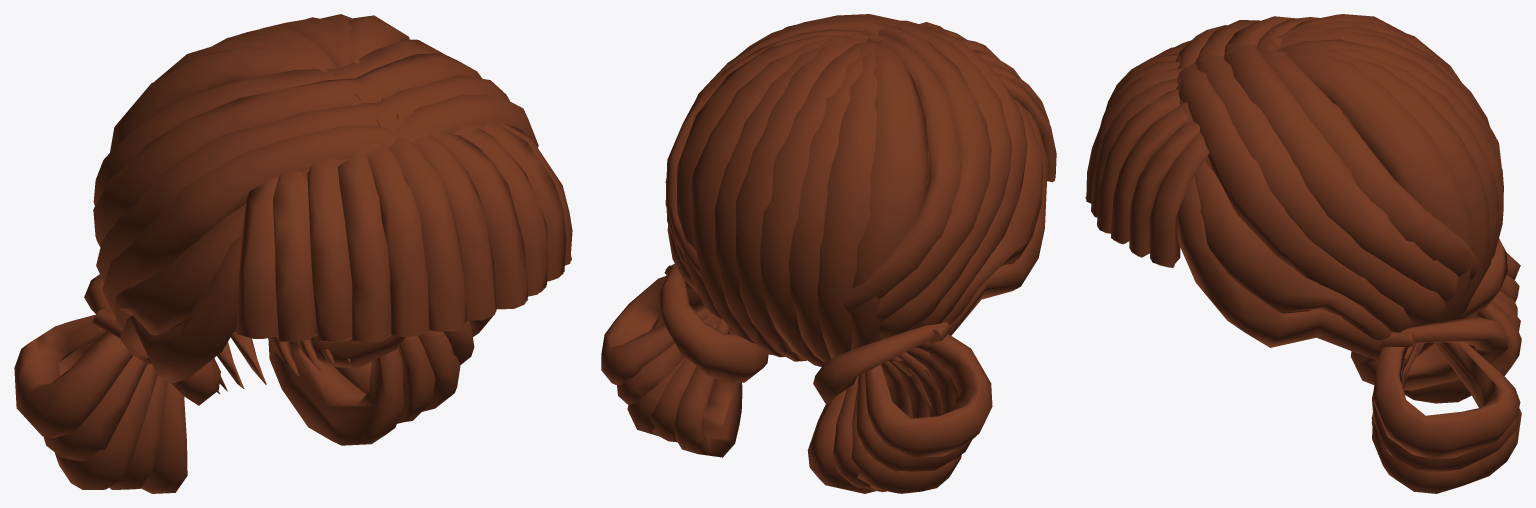
The model's file is hair-3-ca544a0f.glb.
3 renders of one model, left to right at view 1: azimuth 30°, elevation 25°; view 2: azimuth 150°, elevation 25°; view 3: azimuth 270°, elevation 25°, orthographic. The views are drawn at different scales.
Visible parts, largest first — view 1: hair_3.001; view 2: hair_3.001; view 3: hair_3.001.
Boxes of the visible parts, x1,y1,x2,y2 form: hair_3.001: (14, 14, 572, 493); hair_3.001: (601, 14, 1056, 493); hair_3.001: (1085, 14, 1521, 493).
Size of the model in its own units: 2.08 by 2.06 by 2.03.
